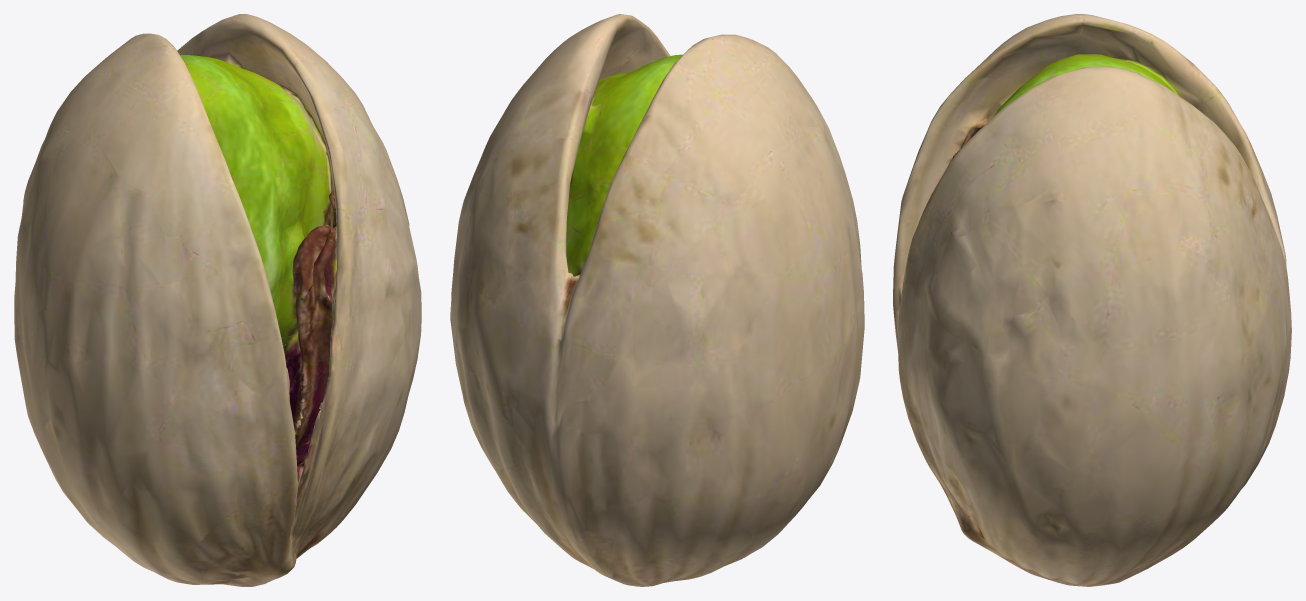
The model's file is seed.glb.
3 renders of one model, left to right at view 1: azimuth 30°, elevation 25°; view 2: azimuth 150°, elevation 25°; view 3: azimuth 270°, elevation 25°, orthographic. The views are drawn at different scales.
Bounding box in the file's own units: 1.28 × 1.9 × 1.27.
1 material, 1 textured.
